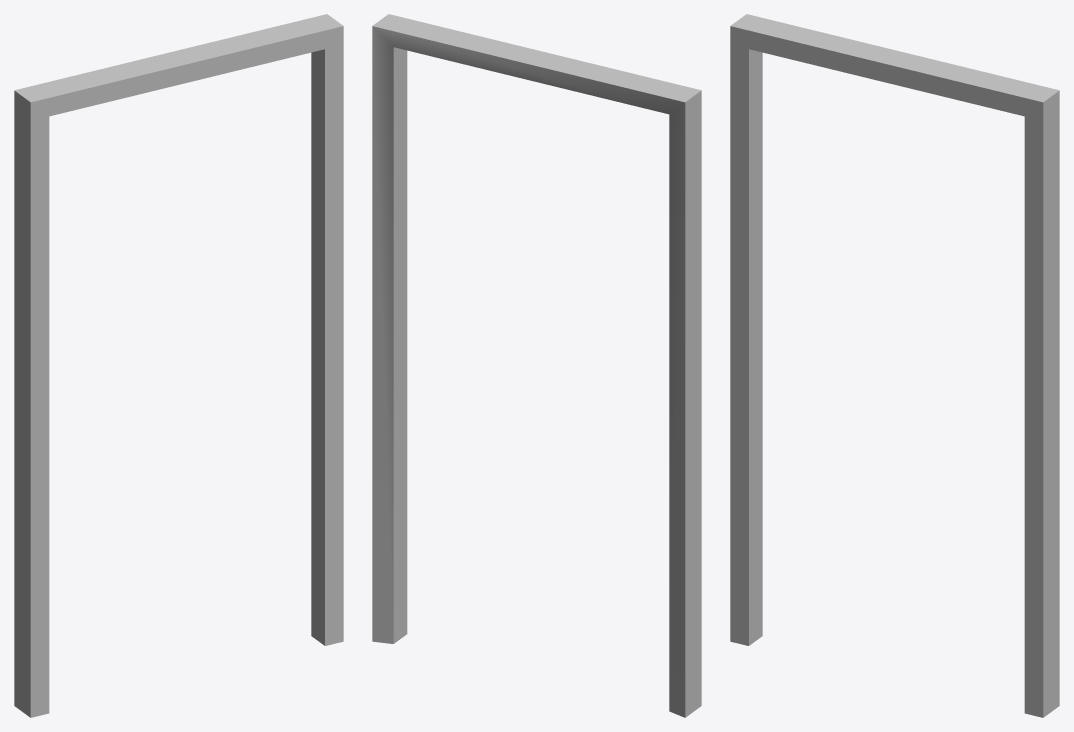
File: door_frame.FBX
The picture shows the model from 3 angles, left to right: view 1: azimuth 30°, elevation 25°; view 2: azimuth 150°, elevation 25°; view 3: azimuth 330°, elevation 25°; orthographic projection.
Visible parts, largest first — view 1: door_frame; view 2: door_frame; view 3: door_frame.
Boxes of the visible parts, x1,y1,x2,y2 form: door_frame: (14,14,343,717); door_frame: (372,14,701,717); door_frame: (730,14,1059,717).
Size of the model in its own units: 62.95 by 118 by 5.74.
